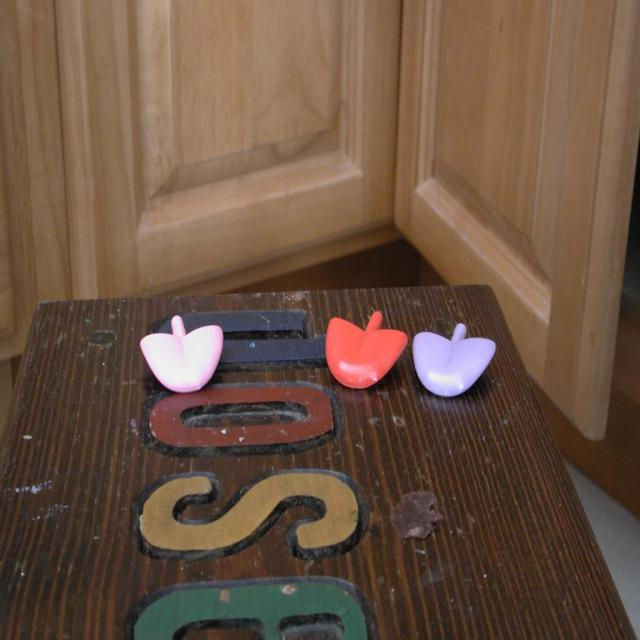Table: (8, 253, 640, 632)
